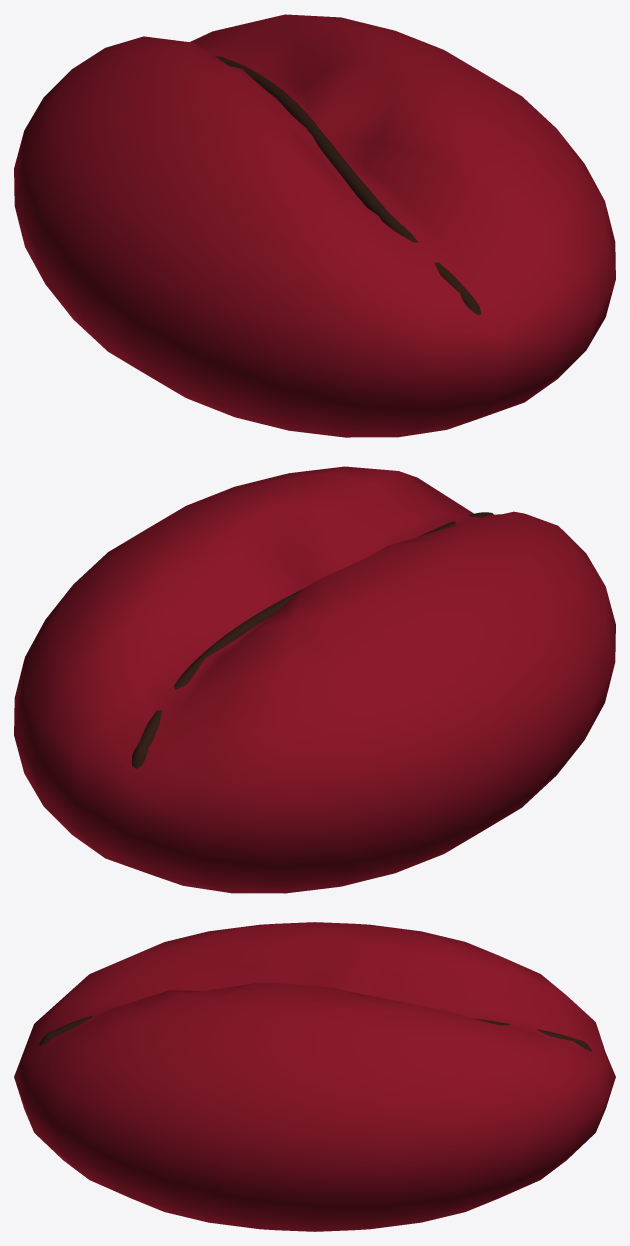
The model's file is Item_BloodBean.fbx.
3 renders of one model, top to bottom at view 1: azimuth 30°, elevation 25°; view 2: azimuth 150°, elevation 25°; view 3: azimuth 270°, elevation 25°, orthographic. The views are drawn at different scales.
Parts seen in each view (by area): view 1: Day_BloodBean.001; view 2: Day_BloodBean.001; view 3: Day_BloodBean.001.
Boxes of the visible parts, box(x1,y1,x2,y2) form: Day_BloodBean.001: box(14, 14, 615, 437); Day_BloodBean.001: box(14, 466, 615, 893); Day_BloodBean.001: box(14, 922, 615, 1231).
Size of the model in its own units: 31.19 by 18.6 by 42.2.
